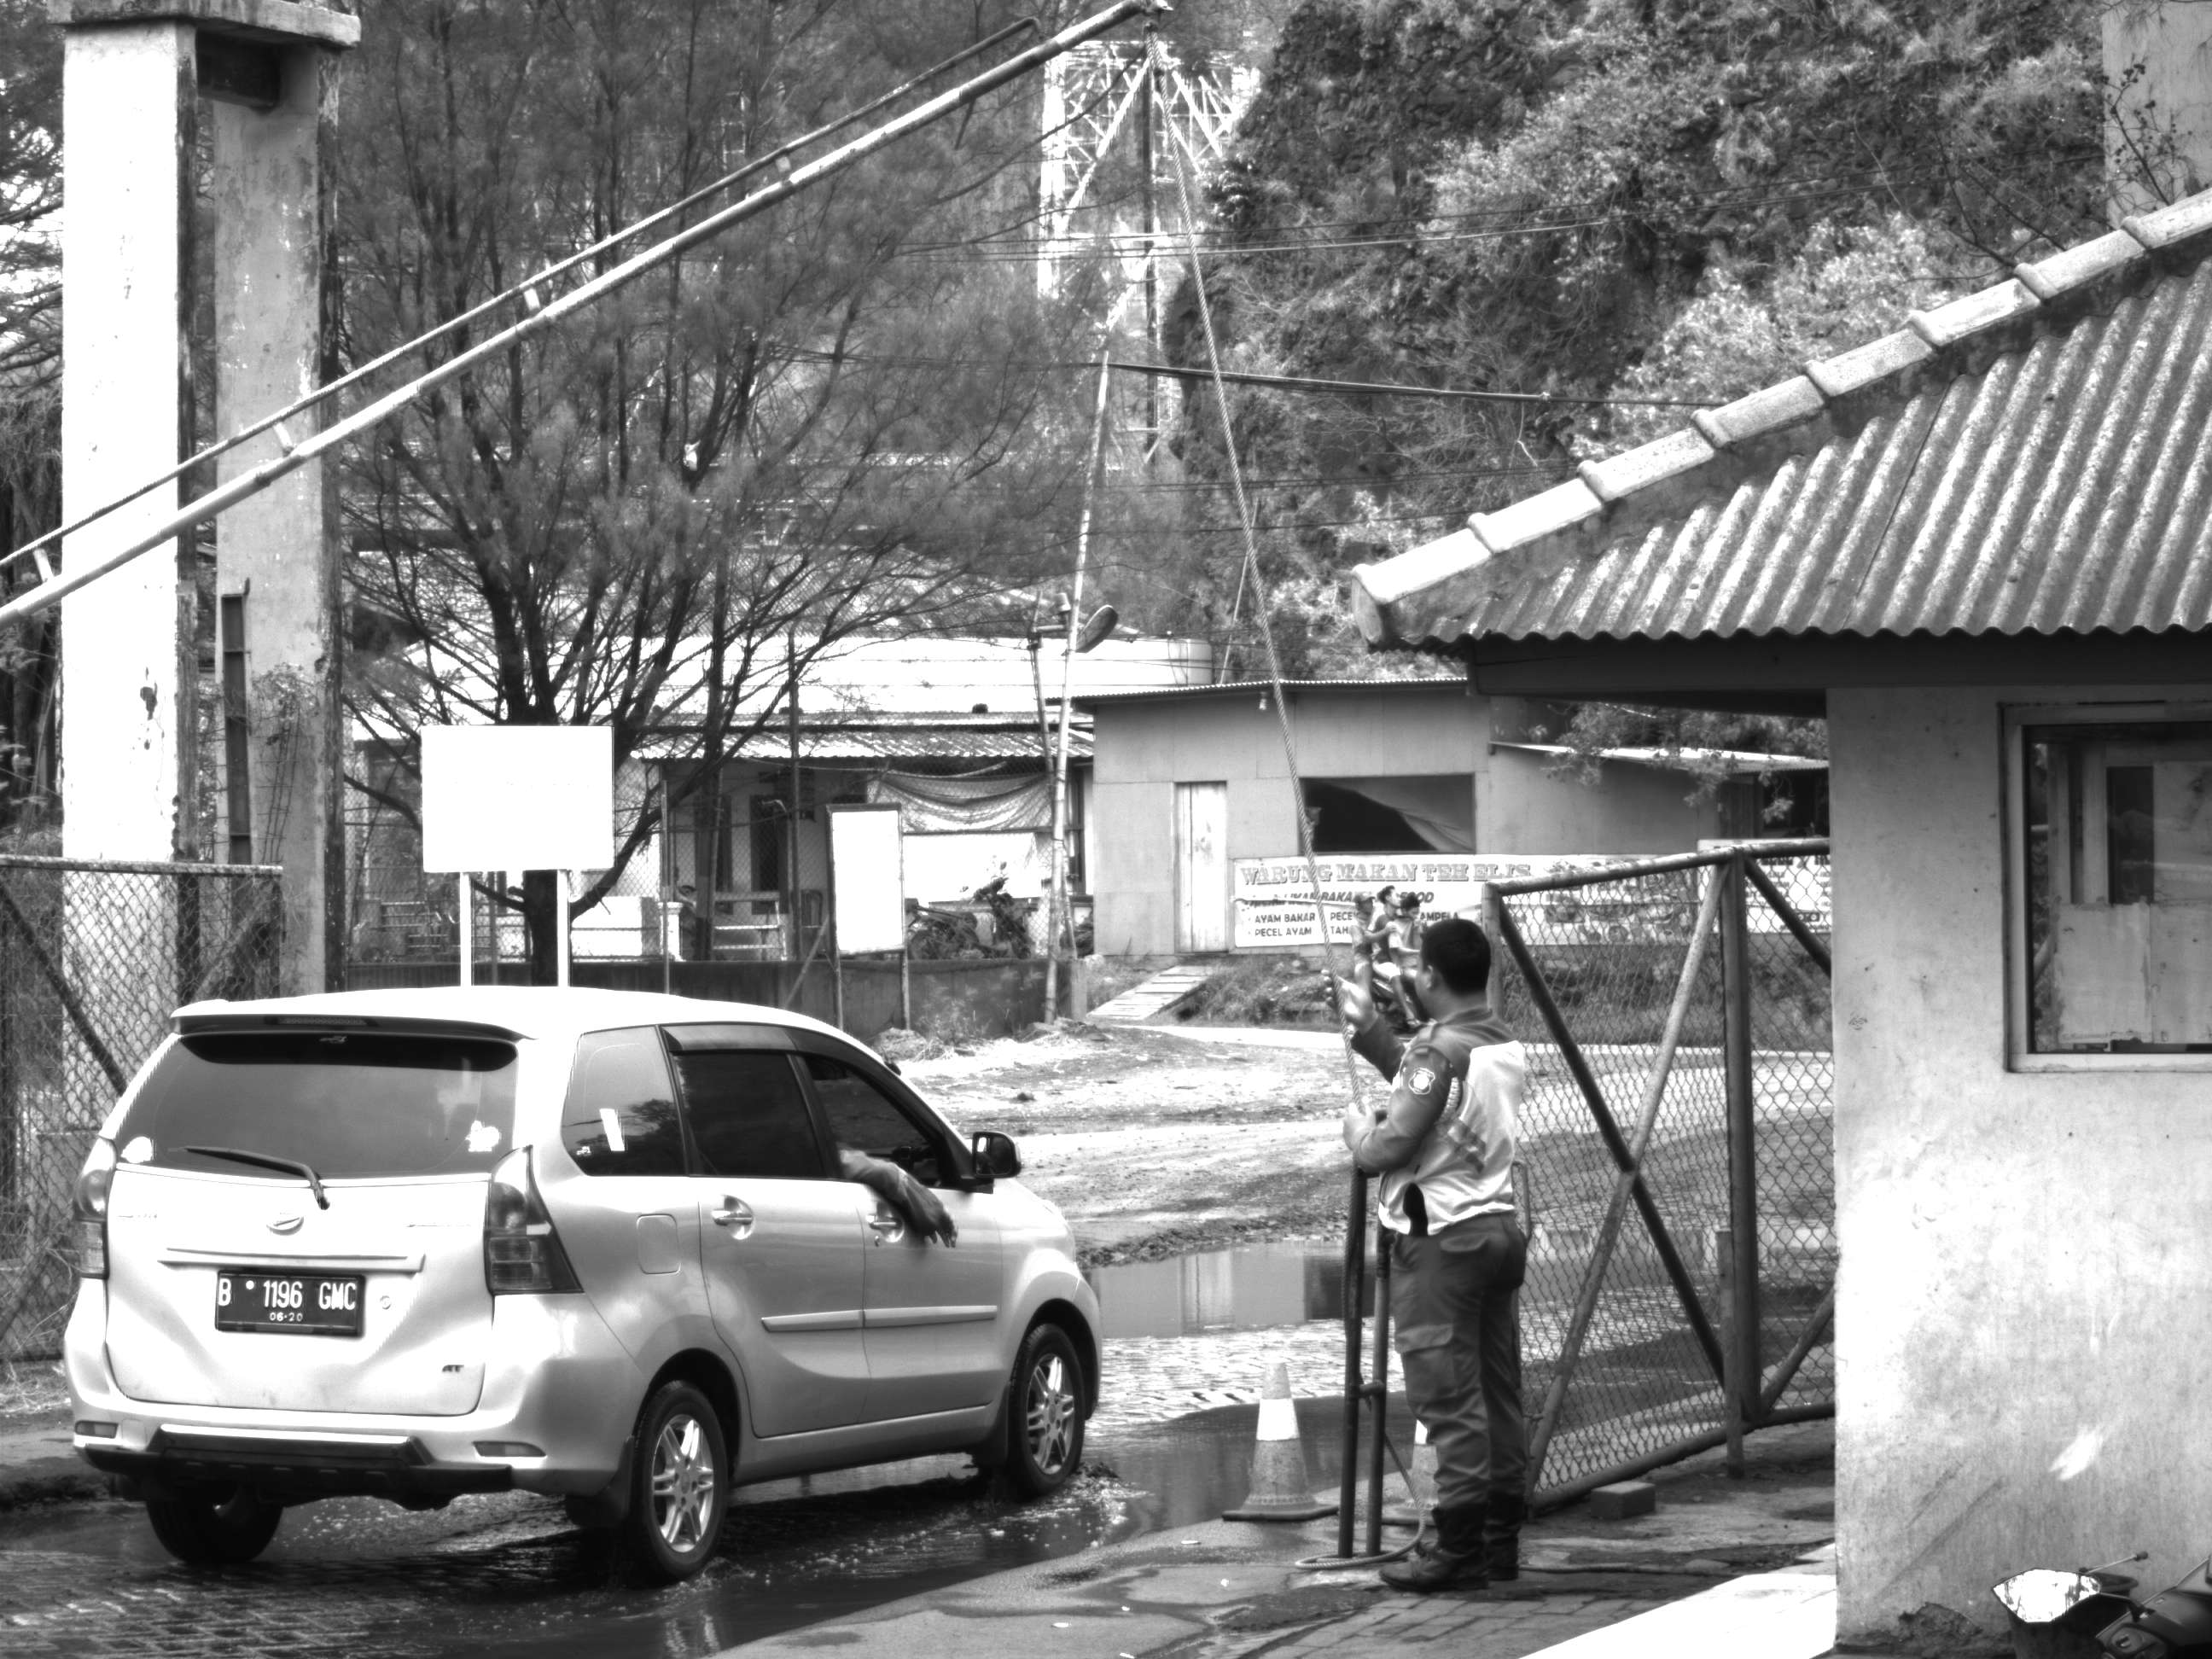day_small_rear: (49, 981, 743, 1582)
plate: (208, 1267, 374, 1336)
